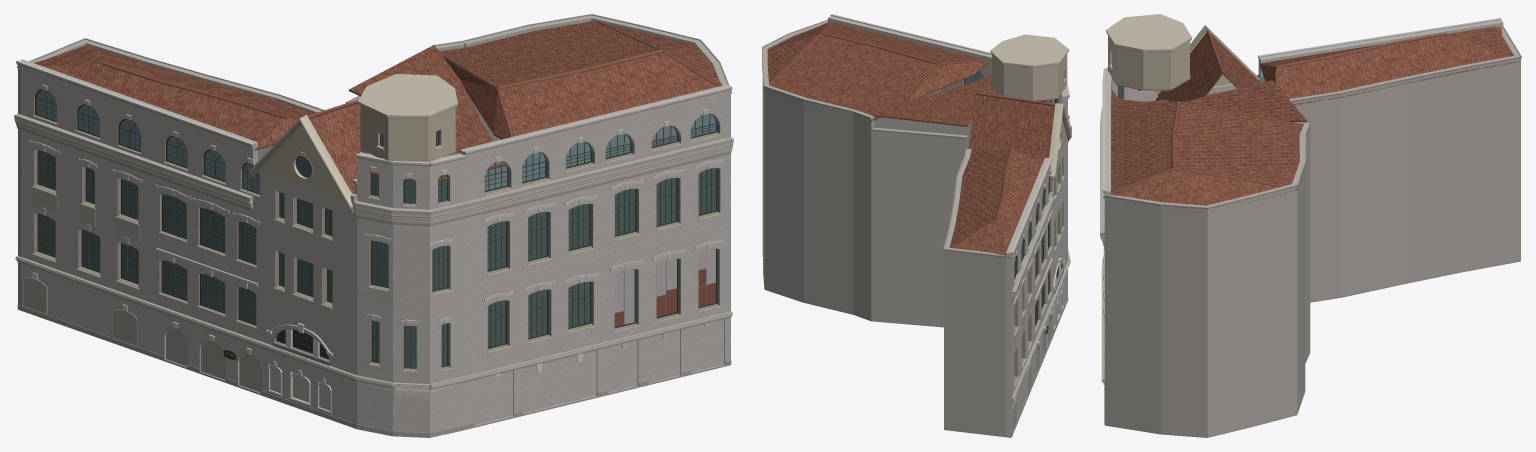
Rendered from hongkou-st-lukes-hospital-changzhi-nanxun-corner-lod.glb.
3 views of the same model, side by side, from view 1: azimuth 30°, elevation 25°; view 2: azimuth 150°, elevation 25°; view 3: azimuth 270°, elevation 25° (orthographic). The views are drawn at different scales.
Parts seen in each view (by area): view 1: 同仁医院旧址长治路、南浔路转角住宅; view 2: 同仁医院旧址长治路、南浔路转角住宅; view 3: 同仁医院旧址长治路、南浔路转角住宅.
Part boxes in pixels (left/top/right/bottom): 同仁医院旧址长治路、南浔路转角住宅: left=14, top=14, right=733, bottom=437; 同仁医院旧址长治路、南浔路转角住宅: left=762, top=14, right=1071, bottom=437; 同仁医院旧址长治路、南浔路转角住宅: left=1100, top=14, right=1521, bottom=437.
Bounding box in the file's own units: 30.47 × 18.28 × 25.71.
Materials: 32 (2 with a texture image).
